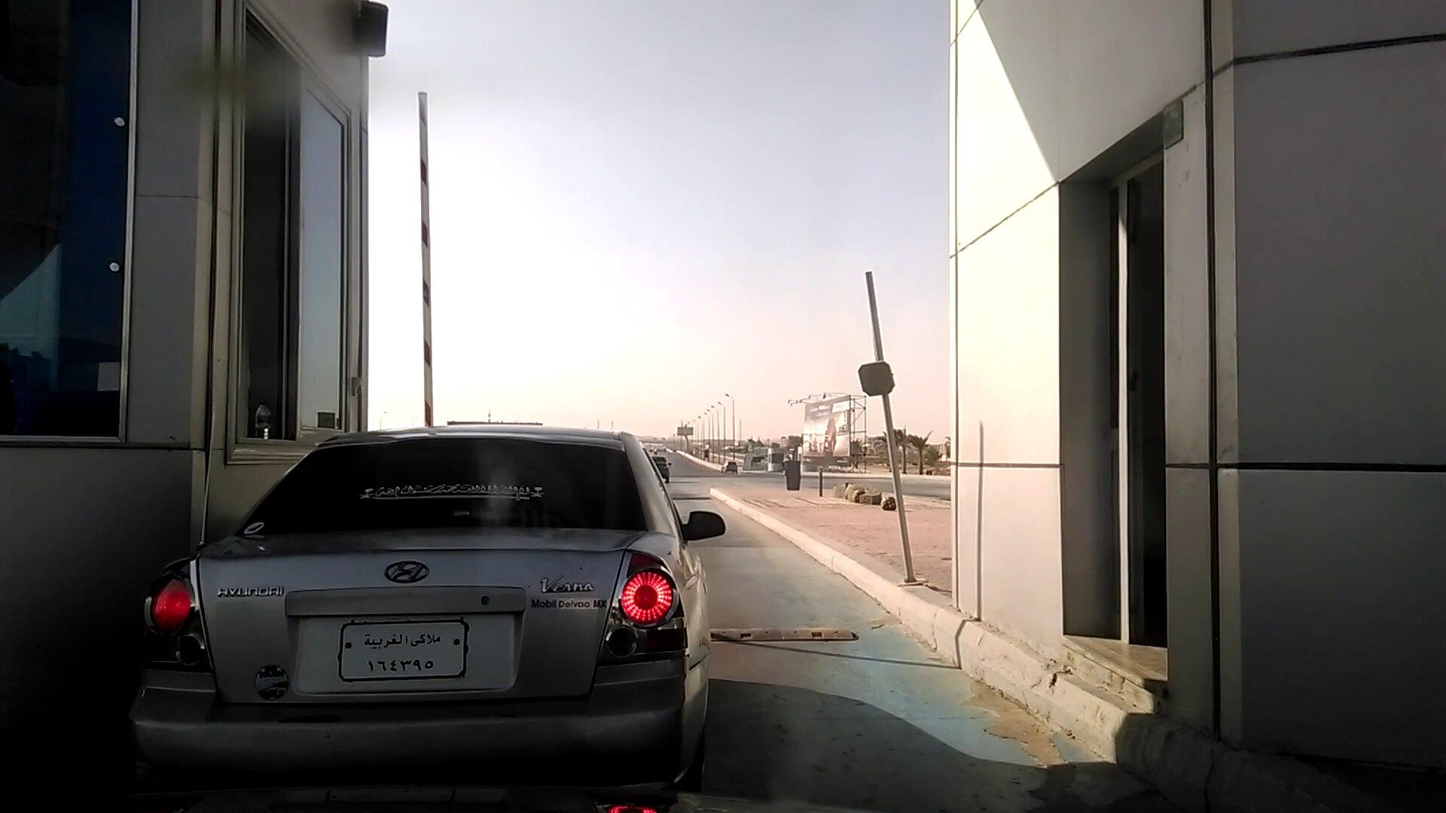Bump: (714, 627, 872, 651)
